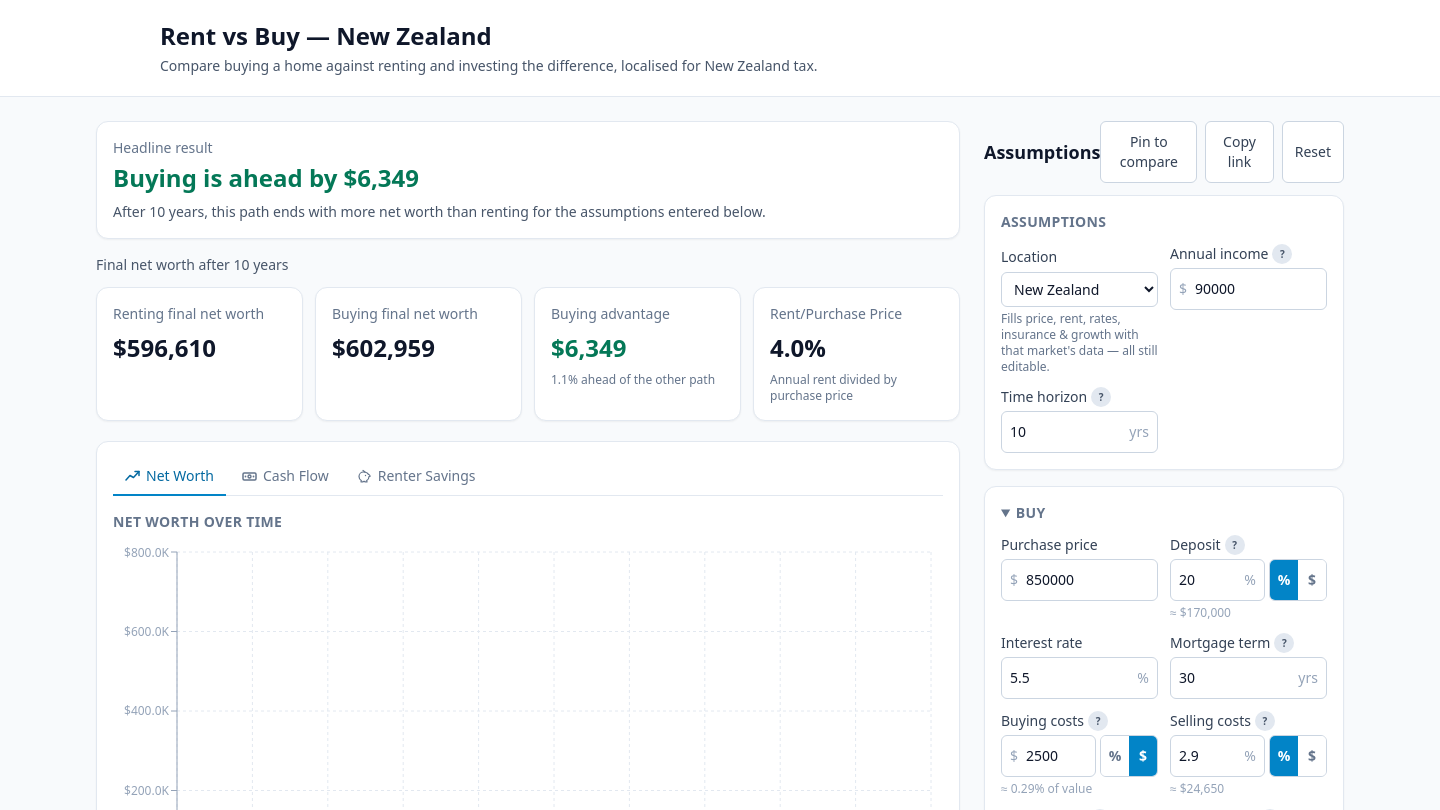
Test: App (smoke) › clamps typed numeric assumptions before recalculating results
This screenshot has width=1440, height=810.
Replace the text in the number field labelled "Time horizon ?" with "999" at x=1066, y=432, box x1=1002 y1=412 x2=1129 y2=452
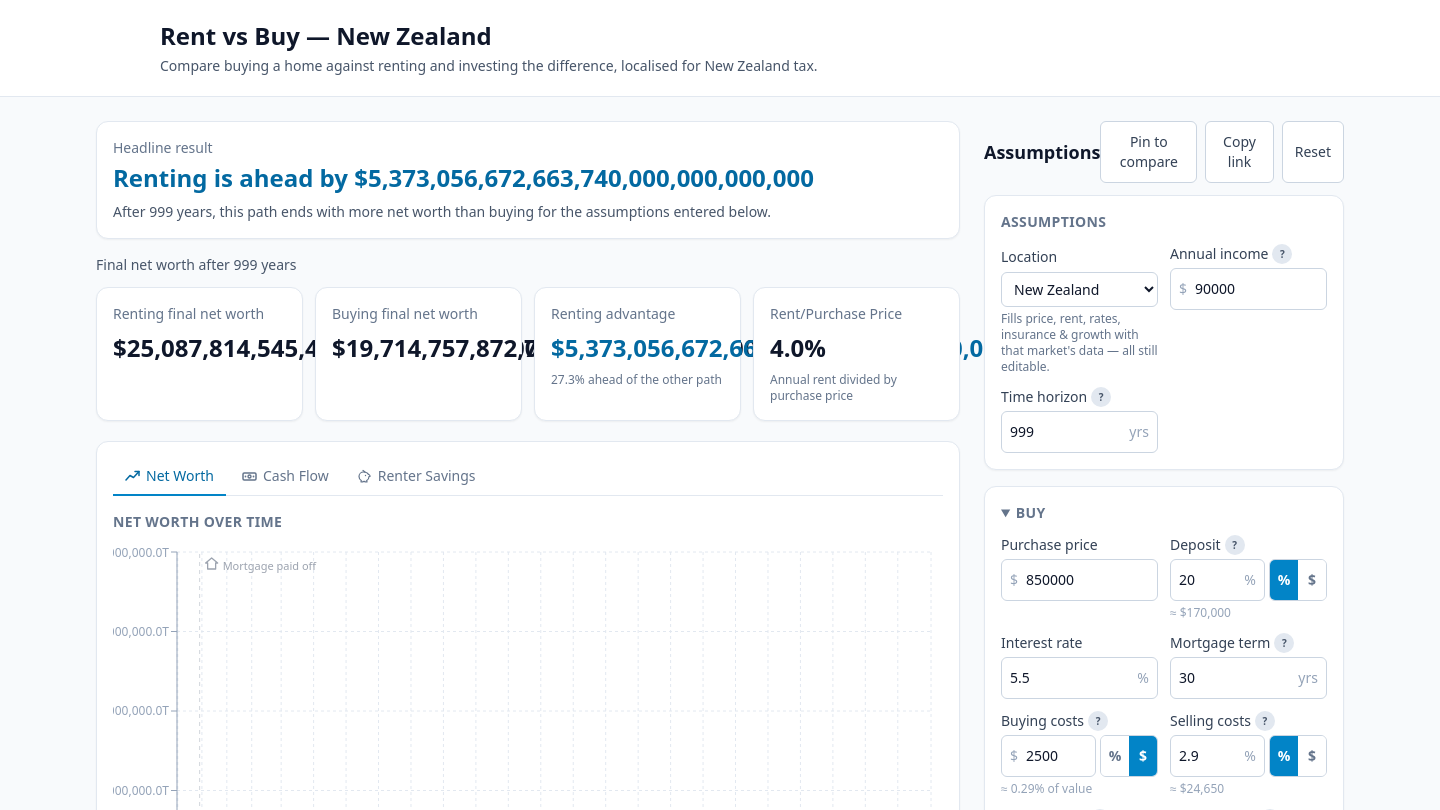
Leave the number field labelled "Time horizon ?", box x1=1002 y1=412 x2=1129 y2=452
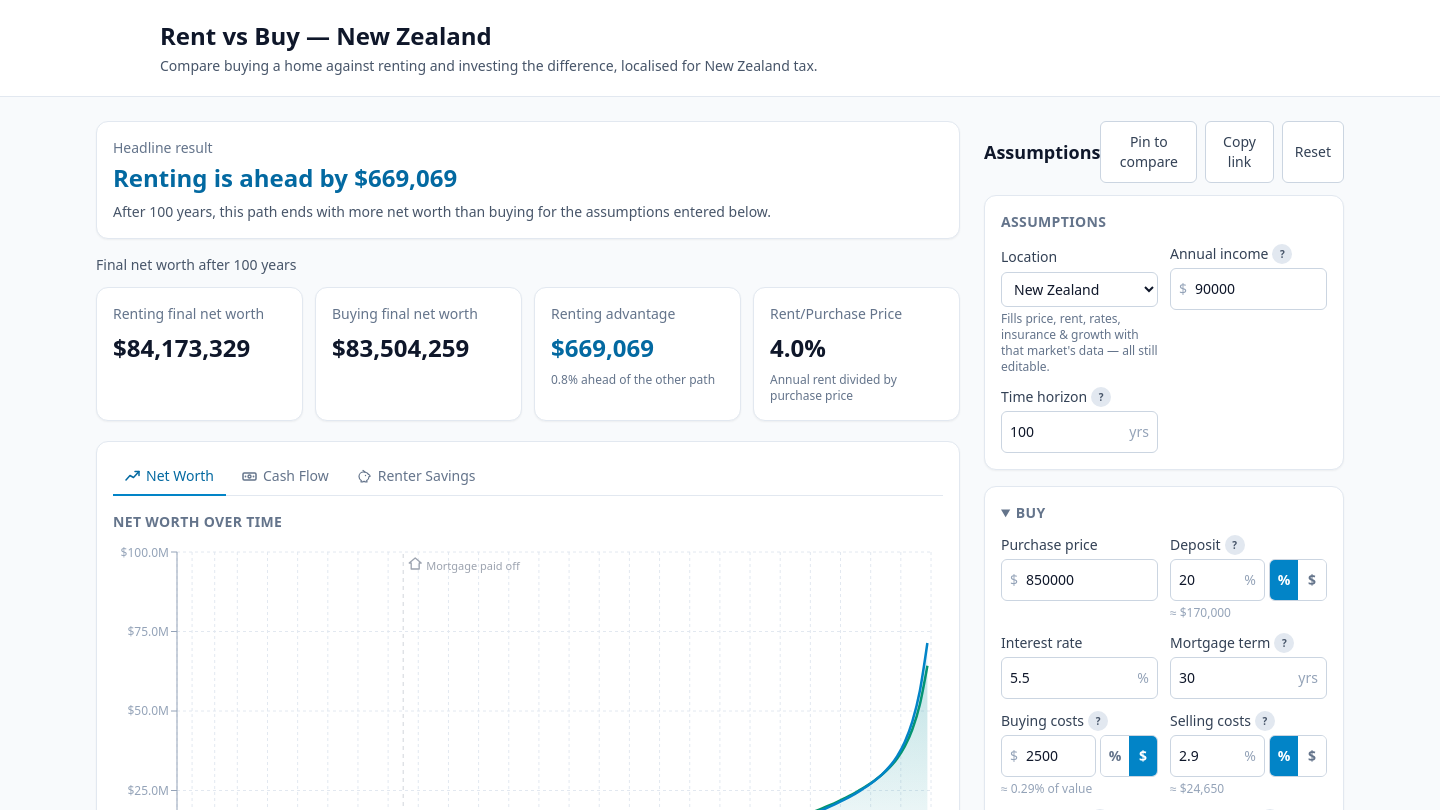
Result: the number field showing "100" holds "100" at x1=1002 y1=412 x2=1129 y2=452
